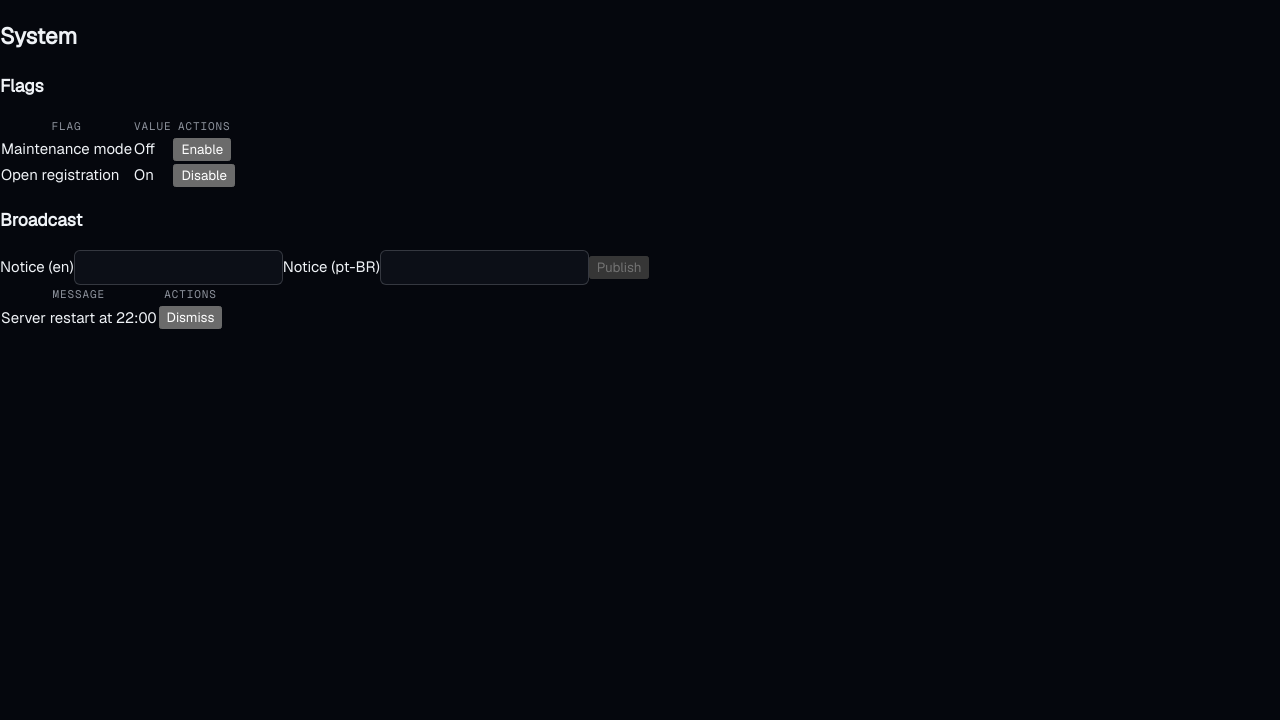
it: system screen (S11.5 screen E) › publishes a bilingual broadcast and dismisses one with confirmation
The width and height of the screenshot is (1280, 720).
Expected: the text "Server restart at 22:00" is shown, [0,304,158,330]
Expected: the button "Publish" is disabled, [589,256,650,279]
Type "Double XP weekend" into the field labelled "Notice (en)".
click(178, 268); type("Double XP weekend")  # box [74,250,283,285]
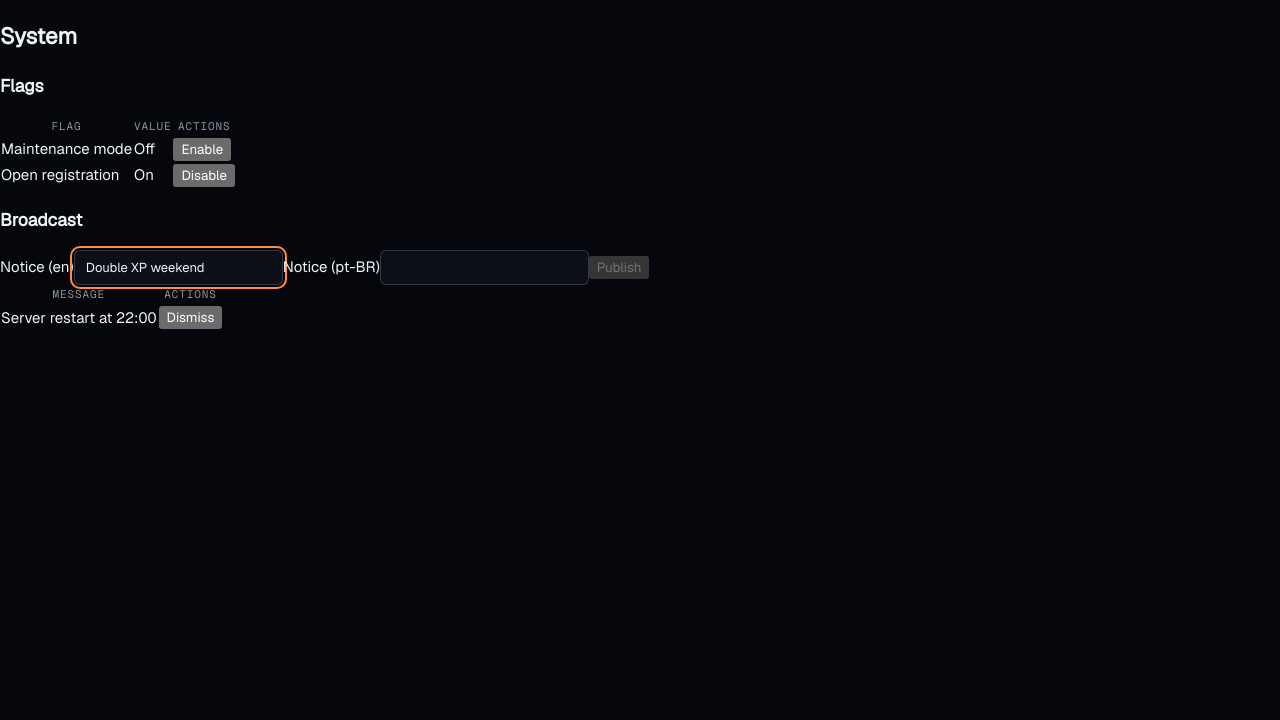
Type "Fim de semana de XP duplo" into the field labelled "Notice (pt-BR)".
click(484, 268); type("Fim de semana de XP duplo")  # box [380,250,589,285]
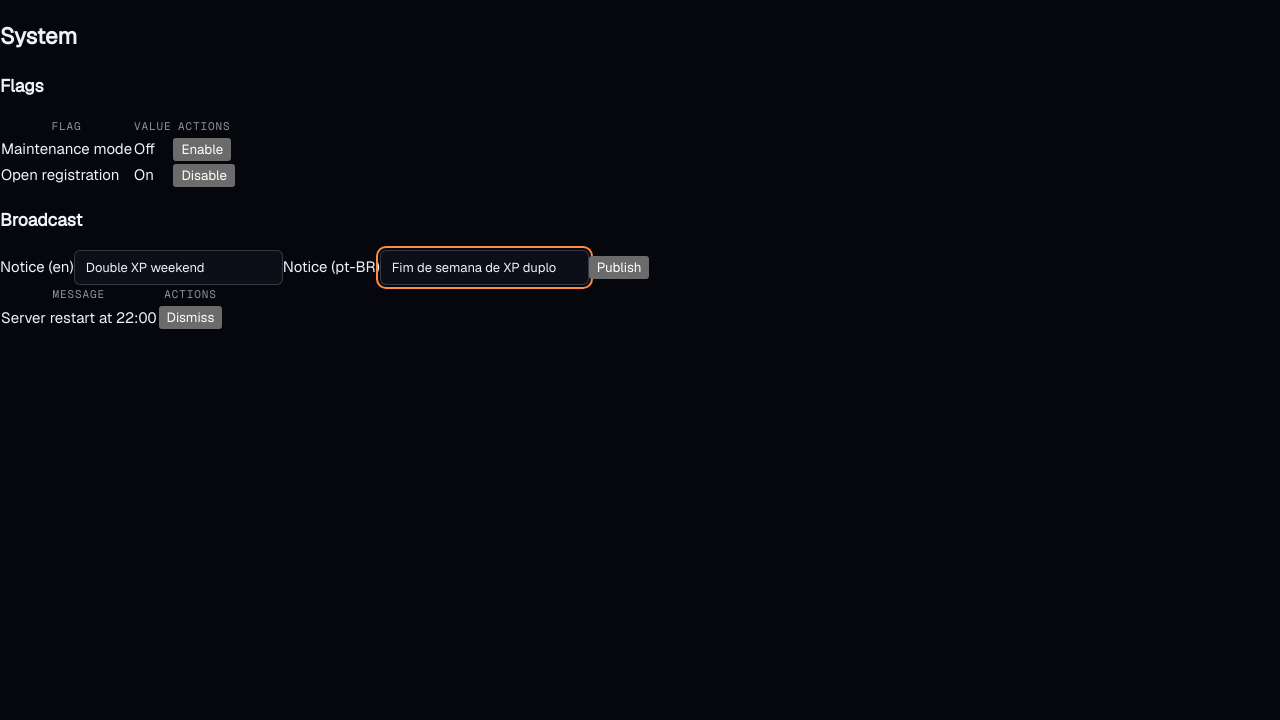
Now the button "Publish" is enabled
Click the button "Publish".
click(619, 268)  # box [589,256,650,279]
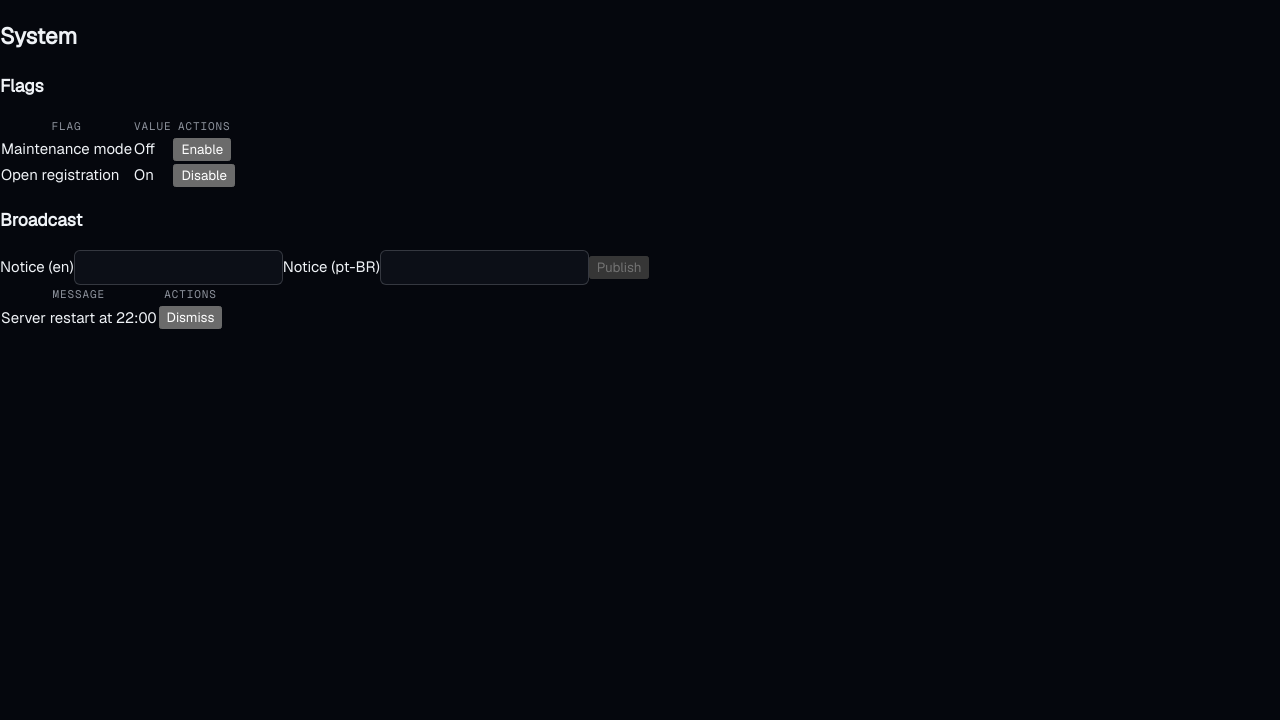
Click the button "Dismiss".
click(190, 318)  # box [158,306,222,329]
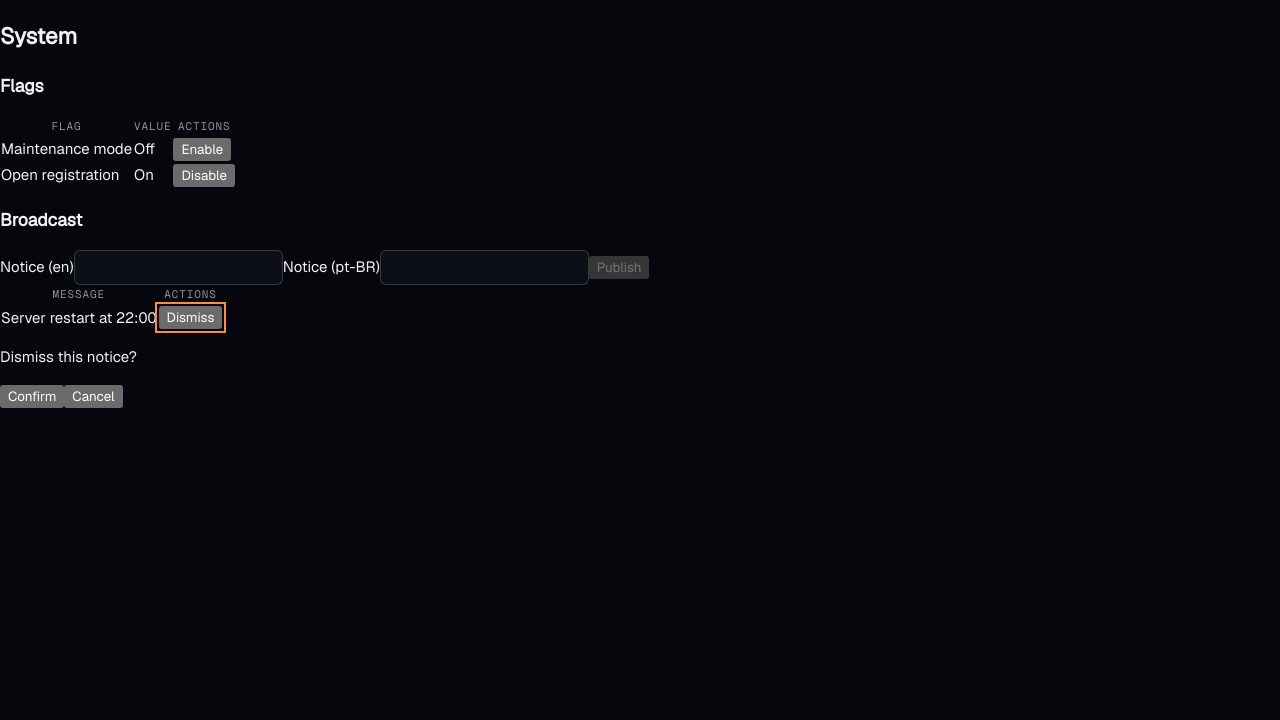
Click the button "Confirm".
click(32, 396)  # box [0,385,64,408]
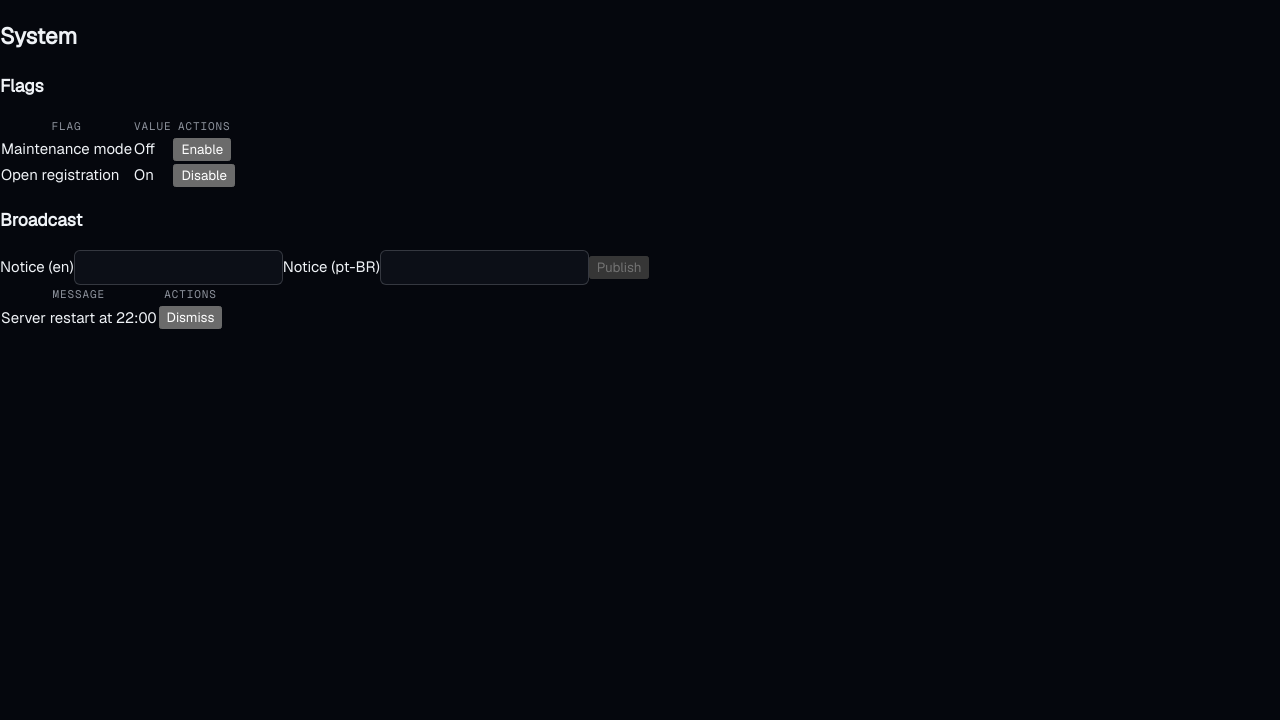
Now the dialog is gone
